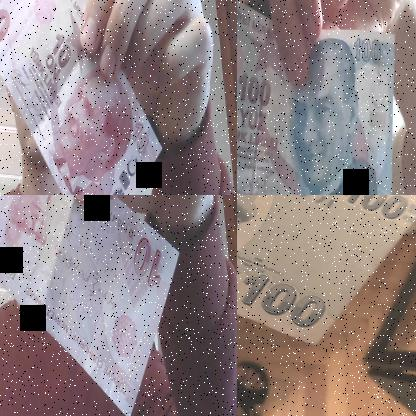5 TL: (0, 0, 163, 194)
